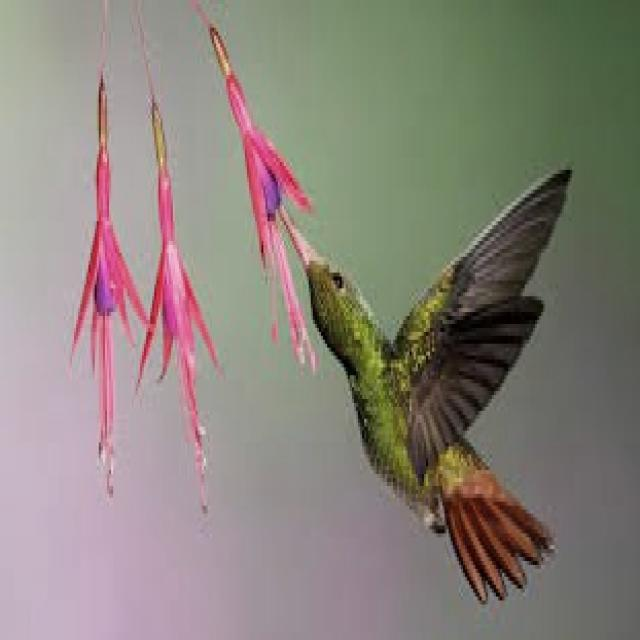hummingbird: (286, 170, 570, 597)
